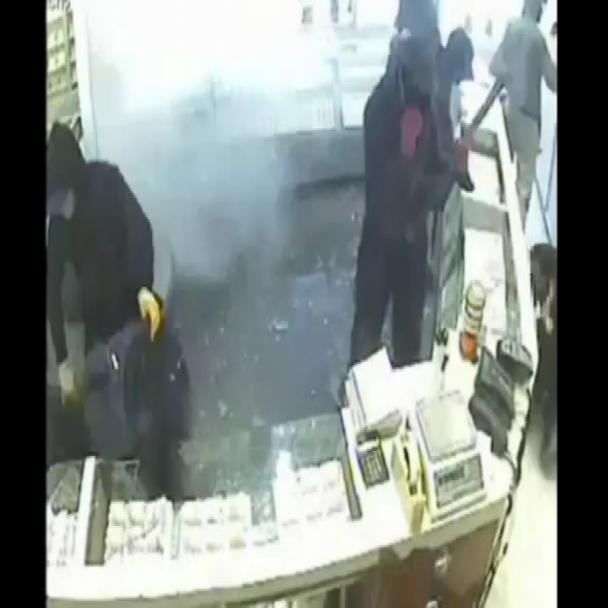smoke: (72, 0, 381, 434)
